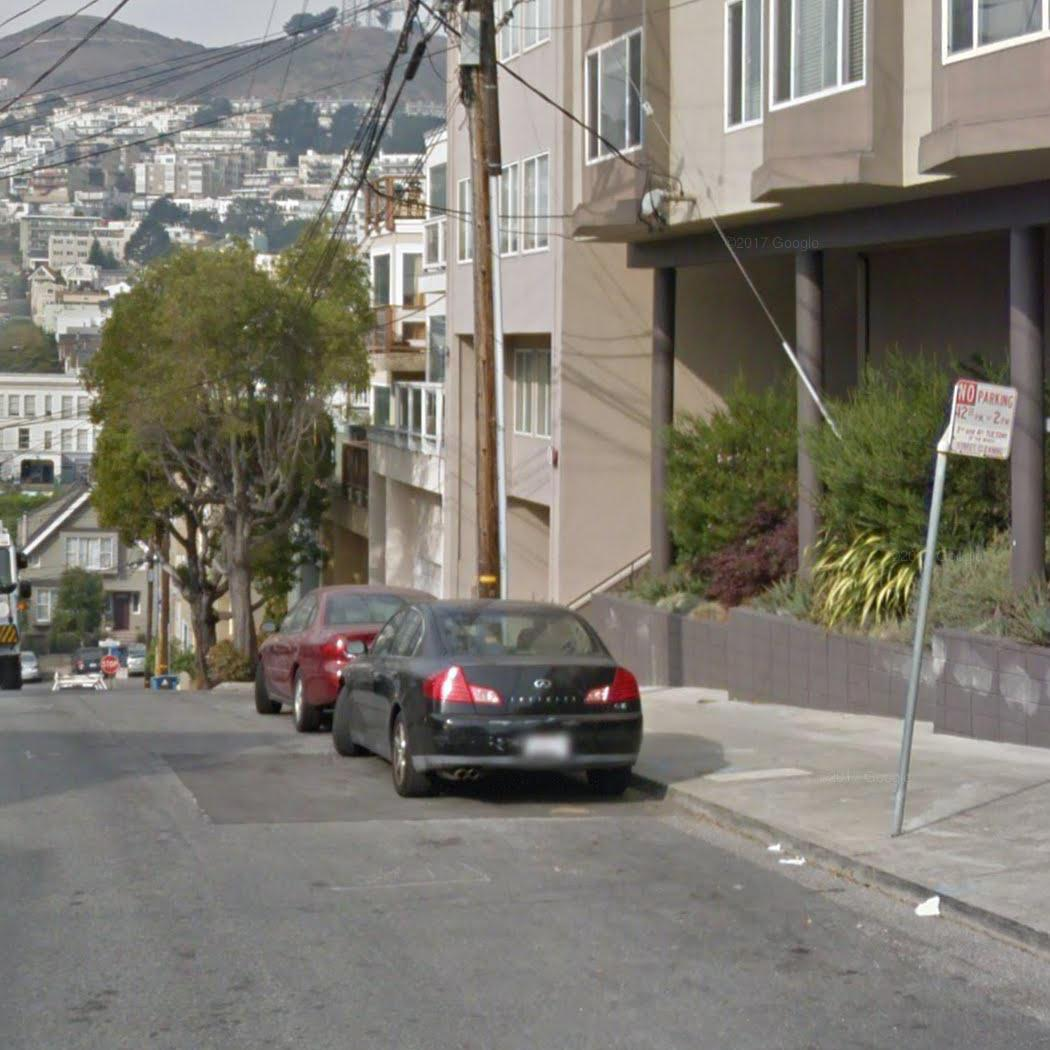No Parking: (941, 377, 1018, 461)
